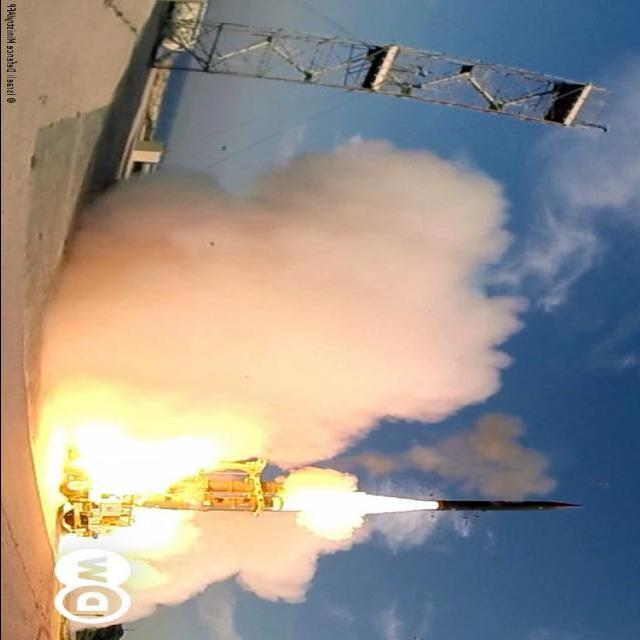missile: (424, 493, 588, 517)
